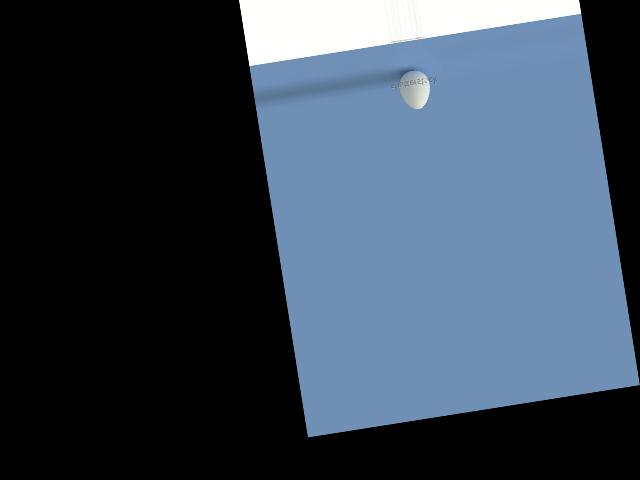egg: (397, 68, 433, 111)
